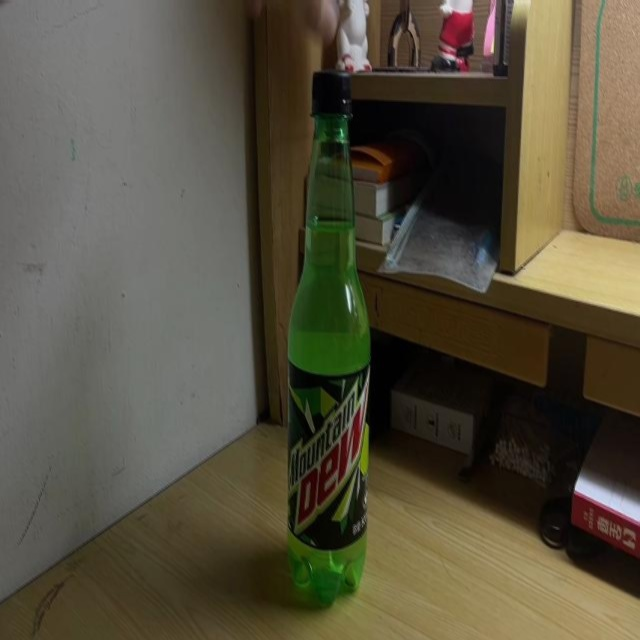Mountain-Dew: (288, 69, 370, 606)
